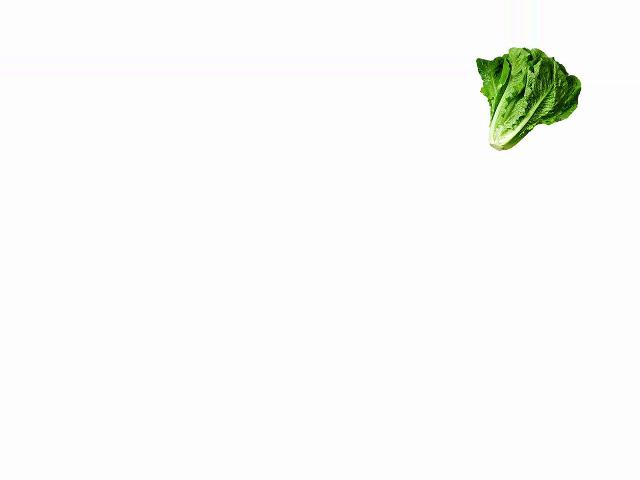lettuce: (478, 46, 582, 155)
